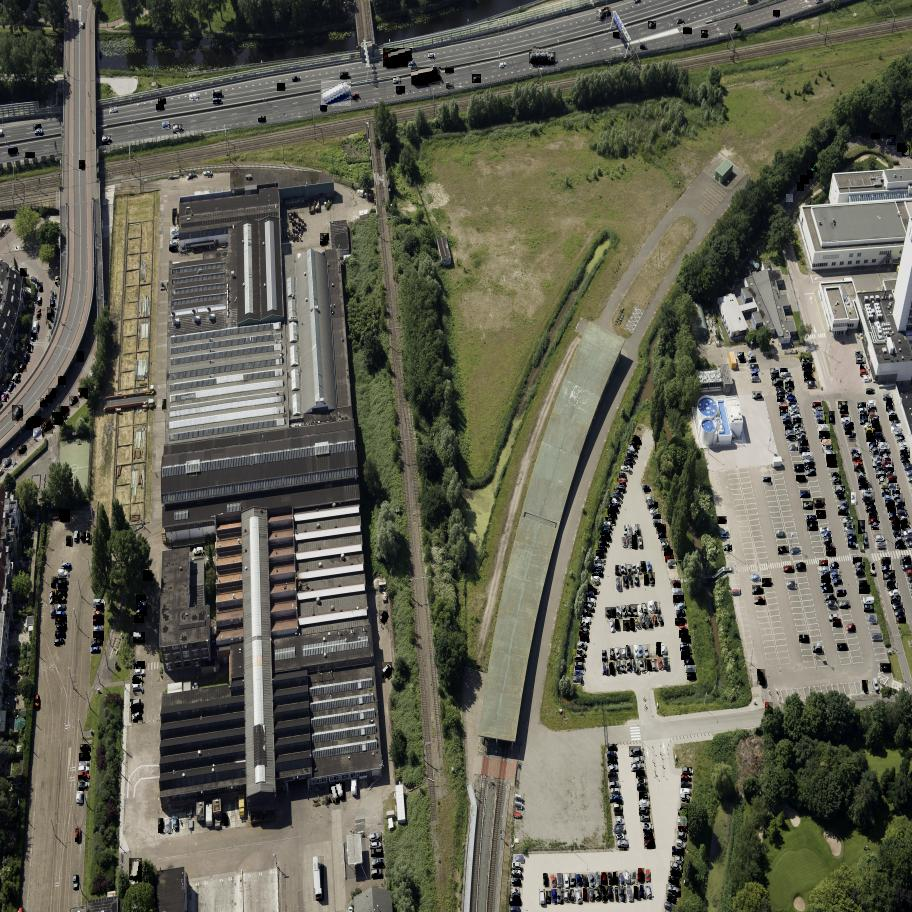large-vehicle: (320, 81, 353, 107), (382, 48, 413, 69), (410, 68, 442, 87), (314, 856, 325, 901), (130, 857, 143, 883), (529, 53, 555, 64), (25, 416, 43, 431), (596, 8, 612, 21), (48, 308, 53, 319)
small-vehicle: (381, 663, 396, 679), (41, 419, 56, 434), (329, 784, 340, 803), (335, 782, 346, 800), (666, 885, 681, 898), (12, 405, 24, 421), (669, 861, 684, 873), (574, 887, 584, 904), (619, 886, 629, 903), (644, 883, 654, 900), (593, 871, 603, 887), (599, 885, 609, 901), (645, 615, 655, 631), (2, 459, 15, 471), (668, 876, 681, 888), (54, 615, 68, 626), (368, 833, 382, 844), (629, 747, 643, 758), (674, 838, 688, 849), (862, 492, 876, 503), (758, 669, 767, 686), (637, 658, 647, 673), (33, 429, 45, 441), (164, 818, 173, 834), (615, 482, 627, 494), (56, 622, 69, 633), (52, 413, 63, 426), (142, 570, 155, 581), (588, 585, 601, 596), (613, 825, 626, 836), (616, 840, 629, 851), (631, 762, 644, 773), (674, 601, 687, 612), (813, 499, 826, 510), (821, 583, 834, 594), (884, 576, 897, 587), (790, 546, 803, 557), (794, 562, 807, 573), (379, 610, 389, 624), (68, 397, 80, 408), (59, 510, 70, 522), (173, 124, 185, 135), (132, 676, 144, 687), (511, 869, 523, 880), (576, 647, 588, 658), (639, 805, 651, 816), (675, 616, 687, 627), (753, 585, 765, 596), (818, 424, 830, 435), (825, 593, 837, 604), (832, 576, 844, 587), (845, 623, 857, 634), (883, 570, 895, 581), (630, 604, 640, 617), (666, 895, 679, 905), (158, 818, 166, 834), (627, 449, 638, 460), (632, 435, 643, 446), (574, 668, 585, 679), (611, 498, 622, 509), (579, 626, 590, 637), (584, 602, 595, 613), (644, 839, 655, 850), (869, 442, 880, 453), (78, 389, 90, 399), (60, 406, 72, 416), (16, 446, 28, 456), (54, 637, 66, 647), (56, 589, 68, 599), (131, 705, 143, 715), (131, 713, 143, 723), (93, 631, 105, 641), (633, 755, 645, 765), (589, 873, 597, 888), (593, 886, 601, 901), (675, 609, 687, 619), (806, 521, 818, 531), (672, 847, 684, 857), (655, 525, 667, 535), (772, 378, 784, 388), (798, 437, 810, 447), (754, 596, 766, 606), (858, 520, 866, 535), (872, 459, 884, 469), (894, 499, 906, 509), (835, 588, 847, 598), (680, 803, 692, 813), (676, 831, 688, 841), (820, 578, 832, 588), (873, 678, 881, 693), (880, 664, 892, 674), (900, 555, 912, 565), (888, 589, 900, 599), (580, 874, 589, 887), (351, 779, 358, 795), (644, 644, 652, 658), (581, 888, 589, 902), (587, 887, 595, 901), (58, 569, 69, 579), (44, 394, 55, 404), (510, 888, 521, 898), (586, 597, 597, 607), (80, 744, 91, 754), (612, 493, 623, 503), (615, 833, 626, 843), (678, 623, 689, 633), (785, 392, 796, 402), (789, 403, 800, 413), (868, 438, 879, 448), (860, 416, 871, 426), (876, 470, 887, 480), (875, 465, 886, 475), (878, 442, 889, 452), (892, 425, 903, 435), (829, 560, 840, 570), (860, 585, 871, 595), (887, 583, 898, 593), (894, 608, 905, 618), (896, 615, 907, 625), (8, 382, 17, 394), (55, 596, 67, 605), (627, 524, 636, 536), (91, 638, 103, 647), (673, 595, 685, 604), (824, 450, 836, 459), (879, 449, 891, 458), (839, 600, 851, 609), (818, 566, 830, 575), (871, 633, 883, 642), (892, 603, 904, 612), (569, 873, 576, 888), (632, 870, 639, 885), (627, 886, 634, 901), (51, 576, 59, 589), (615, 647, 623, 660), (563, 889, 571, 902), (575, 875, 583, 888), (558, 887, 564, 904), (102, 135, 112, 145), (47, 389, 57, 399), (472, 74, 482, 84), (630, 440, 640, 450), (610, 504, 620, 514), (604, 521, 614, 531), (575, 661, 585, 671), (887, 136, 897, 146), (783, 376, 793, 386), (679, 809, 689, 819), (901, 452, 911, 462), (56, 603, 67, 612), (77, 351, 86, 362), (18, 362, 27, 373), (134, 633, 145, 642), (187, 172, 198, 181), (136, 595, 147, 604), (511, 878, 522, 887), (577, 641, 588, 650), (611, 796, 622, 805), (608, 765, 619, 774), (896, 541, 907, 550), (681, 652, 692, 661), (821, 532, 832, 541), (799, 447, 810, 456), (803, 452, 814, 461), (819, 431, 830, 440), (822, 440, 833, 449), (800, 490, 811, 499), (869, 516, 880, 525), (893, 493, 904, 502), (886, 470, 897, 479), (883, 459, 894, 468), (891, 420, 902, 429), (778, 547, 789, 556), (550, 874, 557, 888), (601, 872, 608, 886), (638, 869, 645, 883), (13, 372, 21, 384), (55, 631, 67, 639), (370, 842, 382, 850), (371, 849, 383, 857), (509, 898, 521, 906), (625, 564, 633, 576), (513, 855, 525, 863), (874, 535, 886, 543), (77, 791, 84, 804), (223, 814, 230, 827), (172, 817, 179, 830), (627, 646, 634, 659), (609, 662, 616, 675), (619, 873, 626, 886), (657, 657, 664, 670), (663, 658, 670, 671), (58, 377, 68, 386), (30, 276, 40, 285), (320, 233, 330, 242), (170, 232, 180, 241), (277, 82, 287, 91), (372, 869, 382, 878), (135, 615, 145, 624), (608, 511, 618, 520), (603, 527, 613, 536), (598, 544, 608, 553), (596, 550, 606, 559), (609, 618, 615, 633), (552, 889, 558, 904), (539, 890, 545, 905), (608, 758, 618, 767), (640, 814, 650, 823), (640, 799, 650, 808), (610, 788, 620, 797), (613, 804, 623, 813), (672, 581, 682, 590), (817, 417, 827, 426), (816, 510, 826, 519), (863, 375, 873, 384), (816, 411, 826, 420), (717, 516, 727, 525), (650, 507, 660, 516), (763, 579, 773, 588), (661, 543, 671, 552), (903, 146, 912, 156), (789, 443, 799, 452), (796, 428, 806, 437), (786, 428, 796, 437), (839, 507, 849, 516), (780, 399, 790, 408), (804, 501, 814, 510), (782, 413, 792, 422), (785, 382, 795, 391), (865, 427, 875, 436), (854, 460, 864, 469), (866, 433, 876, 442), (867, 405, 877, 414), (838, 400, 848, 409), (881, 482, 891, 491), (892, 518, 902, 527), (888, 409, 898, 418), (678, 817, 688, 826), (826, 548, 836, 557), (79, 753, 90, 761), (37, 282, 45, 293), (651, 615, 659, 626), (657, 615, 665, 626), (766, 703, 774, 714), (794, 465, 805, 473), (823, 446, 834, 454), (876, 541, 887, 549), (898, 511, 909, 519), (852, 455, 863, 463), (829, 566, 840, 574), (802, 364, 813, 372), (864, 597, 875, 605), (783, 565, 794, 573), (837, 644, 848, 652), (891, 596, 902, 604), (569, 890, 576, 902), (628, 575, 635, 587), (623, 620, 630, 632), (610, 607, 617, 619), (648, 573, 655, 585), (40, 399, 49, 408), (20, 268, 29, 277), (583, 615, 592, 624), (894, 529, 903, 538), (801, 176, 810, 185), (643, 824, 652, 833), (833, 476, 842, 485), (819, 560, 828, 569), (109, 107, 119, 115), (1, 392, 9, 402), (617, 479, 627, 487), (94, 625, 104, 633), (78, 767, 88, 775), (170, 227, 180, 235), (131, 700, 141, 708), (621, 466, 631, 474), (396, 87, 406, 95), (896, 536, 906, 544), (592, 569, 602, 577), (751, 375, 761, 383), (684, 659, 694, 667), (682, 767, 692, 775), (812, 163, 820, 173), (667, 560, 677, 568), (797, 433, 807, 441), (806, 469, 816, 477), (840, 502, 850, 510), (790, 409, 800, 417), (785, 388, 795, 396), (871, 449, 881, 457), (882, 489, 892, 497), (875, 433, 885, 441), (856, 563, 866, 571), (680, 788, 690, 796), (898, 441, 908, 449), (881, 558, 891, 566), (860, 369, 870, 377), (616, 578, 622, 591), (610, 648, 616, 661), (608, 872, 614, 885), (625, 870, 631, 883), (654, 601, 660, 614), (656, 642, 662, 655), (93, 600, 104, 607), (193, 548, 204, 555), (373, 860, 384, 867), (621, 537, 628, 548), (642, 603, 649, 614), (806, 516, 817, 523), (844, 525, 855, 532), (861, 488, 872, 495), (843, 422, 854, 429), (74, 874, 79, 889), (564, 874, 569, 889), (393, 77, 402, 85), (56, 610, 65, 618), (34, 321, 40, 333), (133, 662, 145, 668), (189, 93, 198, 101), (162, 122, 171, 130), (628, 445, 637, 453), (642, 485, 651, 493), (634, 645, 640, 657), (575, 654, 584, 662), (580, 634, 589, 642), (637, 536, 643, 548), (621, 605, 627, 617), (636, 770, 645, 778), (661, 643, 667, 655), (679, 630, 688, 638), (897, 144, 906, 152), (661, 538, 670, 546), (648, 21, 657, 29), (646, 496, 655, 504), (832, 471, 841, 479), (884, 494, 893, 502), (870, 563, 876, 575), (681, 795, 690, 803), (862, 680, 868, 692), (801, 358, 810, 366), (797, 182, 805, 191), (800, 635, 809, 643), (78, 783, 88, 790), (771, 374, 781, 381), (625, 456, 635, 463), (137, 602, 147, 609), (50, 291, 57, 301), (93, 618, 103, 625), (595, 557, 605, 564), (633, 535, 638, 549), (645, 869, 650, 883), (610, 782, 620, 789), (665, 556, 675, 563), (673, 588, 683, 595), (674, 857, 684, 864), (672, 871, 682, 878), (872, 523, 882, 530), (846, 531, 856, 538), (74, 531, 80, 542), (600, 534, 611, 540), (625, 525, 631, 536), (627, 537, 633, 548), (623, 577, 629, 588), (634, 575, 640, 586), (631, 563, 637, 574), (605, 607, 611, 618), (608, 887, 614, 898), (829, 411, 835, 422), (647, 660, 653, 671), (35, 695, 40, 708), (546, 891, 551, 904), (639, 645, 644, 658), (902, 523, 910, 531), (573, 676, 581, 684), (701, 30, 709, 38), (879, 477, 887, 485), (889, 512, 897, 520), (878, 438, 886, 446), (886, 465, 894, 473), (830, 614, 838, 622), (827, 543, 835, 551), (833, 620, 841, 628), (79, 161, 86, 170), (91, 646, 100, 653), (753, 392, 762, 399), (499, 62, 508, 69), (580, 622, 589, 629), (615, 819, 624, 826), (608, 744, 617, 751), (639, 793, 648, 800), (821, 526, 830, 533), (807, 170, 814, 179), (687, 673, 696, 680), (723, 544, 732, 551), (751, 575, 760, 582), (644, 833, 653, 840), (836, 487, 845, 494), (804, 375, 813, 382), (807, 381, 816, 388), (682, 775, 691, 782), (851, 449, 860, 456), (882, 565, 891, 572), (883, 394, 892, 401), (858, 408, 867, 415), (681, 781, 690, 788), (874, 427, 883, 434), (869, 412, 878, 419), (886, 500, 895, 507), (856, 357, 865, 364), (868, 616, 877, 623), (786, 195, 795, 202), (25, 152, 35, 158), (137, 609, 147, 615), (203, 171, 213, 177), (135, 670, 145, 676), (557, 874, 562, 886), (633, 660, 638, 672), (615, 887, 620, 899), (686, 666, 696, 672), (843, 518, 853, 524), (805, 458, 815, 464), (863, 534, 868, 546), (866, 506, 876, 512), (94, 611, 102, 618), (79, 773, 87, 780), (213, 90, 221, 97), (771, 368, 779, 375), (341, 72, 349, 79), (606, 517, 614, 524), (638, 779, 646, 786), (774, 11, 782, 18), (684, 28, 692, 35), (680, 644, 688, 651), (679, 824, 687, 831), (732, 588, 740, 595), (787, 433, 795, 440), (795, 423, 803, 430), (512, 863, 520, 870), (828, 460, 836, 467), (837, 493, 845, 500), (780, 410, 788, 417), (892, 523, 900, 530), (864, 423, 872, 430), (840, 408, 848, 415), (872, 422, 880, 429), (858, 472, 866, 479), (874, 455, 882, 462), (883, 455, 891, 462), (824, 538, 832, 545), (895, 431, 903, 438), (859, 580, 867, 587), (627, 605, 632, 616), (58, 579, 67, 585), (33, 125, 42, 131), (9, 147, 18, 153), (624, 462, 633, 468), (646, 562, 652, 571), (599, 540, 608, 546), (614, 811, 623, 817), (608, 772, 617, 778), (721, 531, 730, 537), (653, 520, 662, 526), (793, 419, 802, 425), (826, 455, 835, 461), (804, 369, 813, 375), (847, 434, 856, 440), (787, 582, 796, 588), (50, 591, 54, 604), (613, 872, 617, 885), (616, 566, 621, 576), (639, 606, 644, 616), (648, 503, 658, 508), (134, 686, 141, 693), (320, 105, 327, 112), (584, 610, 591, 617), (608, 751, 615, 758), (734, 23, 741, 30), (846, 429, 853, 436), (869, 400, 876, 407), (890, 483, 897, 490), (829, 601, 836, 608), (79, 762, 87, 768), (96, 605, 104, 611), (320, 239, 328, 245), (50, 300, 56, 308), (897, 506, 905, 512), (595, 563, 603, 569), (543, 873, 547, 885), (652, 659, 656, 671), (682, 636, 690, 642), (872, 133, 880, 139), (747, 355, 755, 361), (659, 533, 667, 539), (664, 550, 672, 556), (649, 601, 653, 613), (852, 493, 856, 505), (865, 499, 873, 505), (763, 477, 771, 483), (860, 484, 868, 490), (871, 417, 879, 423), (888, 506, 896, 512), (855, 465, 863, 471), (898, 437, 906, 443), (865, 606, 873, 612), (58, 583, 67, 588), (37, 296, 42, 305), (641, 618, 646, 627), (616, 662, 621, 671), (750, 365, 759, 370), (779, 406, 788, 411), (805, 464, 814, 469), (841, 418, 850, 423), (856, 570, 865, 575), (821, 573, 830, 578), (51, 606, 55, 617), (622, 647, 626, 658), (637, 563, 641, 574), (630, 619, 634, 630), (409, 61, 416, 67), (900, 518, 907, 524), (292, 76, 299, 82), (587, 591, 594, 597), (638, 784, 645, 790), (752, 371, 759, 377), (814, 408, 821, 414), (867, 388, 874, 394), (739, 356, 746, 362), (793, 414, 800, 420), (785, 424, 792, 430), (858, 402, 865, 408), (861, 412, 868, 418), (893, 489, 900, 495), (890, 477, 897, 483), (832, 572, 839, 578), (814, 647, 821, 653), (446, 69, 454, 74), (170, 241, 178, 246), (642, 561, 646, 571), (644, 575, 648, 585), (615, 619, 619, 629), (653, 515, 661, 520), (797, 476, 805, 481), (854, 558, 862, 563), (886, 406, 894, 411), (889, 415, 897, 420), (899, 448, 909, 452), (76, 828, 79, 841), (641, 885, 644, 898), (62, 564, 71, 568), (81, 530, 85, 539), (31, 332, 35, 341), (447, 82, 453, 88), (635, 618, 639, 627), (782, 373, 791, 377), (170, 246, 177, 251), (619, 474, 626, 479), (592, 577, 599, 582), (615, 490, 622, 495), (677, 20, 684, 25), (784, 419, 791, 424), (870, 511, 877, 516), (859, 479, 866, 484), (886, 399, 893, 404), (603, 650, 606, 661), (604, 664, 607, 675), (622, 661, 625, 672), (28, 344, 32, 352), (37, 309, 41, 317), (156, 105, 164, 109), (813, 403, 821, 407), (777, 391, 785, 395), (901, 459, 909, 463), (777, 531, 783, 536), (36, 130, 42, 135), (67, 536, 70, 546), (636, 525, 639, 535), (778, 397, 784, 402), (776, 384, 782, 389), (849, 542, 855, 547), (856, 351, 862, 356), (159, 99, 166, 103), (214, 99, 221, 103), (737, 353, 744, 357), (790, 399, 797, 403), (848, 537, 855, 541), (86, 533, 89, 542), (163, 400, 166, 409), (622, 564, 625, 573), (628, 661, 631, 670), (428, 53, 433, 58), (354, 95, 359, 100), (641, 44, 646, 49), (860, 365, 866, 369), (259, 117, 265, 121), (81, 22, 85, 28), (822, 437, 828, 441), (781, 369, 787, 373), (635, 887, 637, 898), (56, 277, 59, 284), (25, 354, 28, 361), (614, 33, 619, 37), (842, 414, 847, 418), (617, 606, 619, 615)
